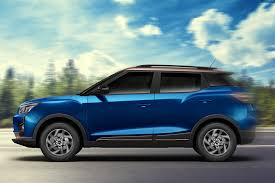XUV 400: (9, 62, 260, 162)
